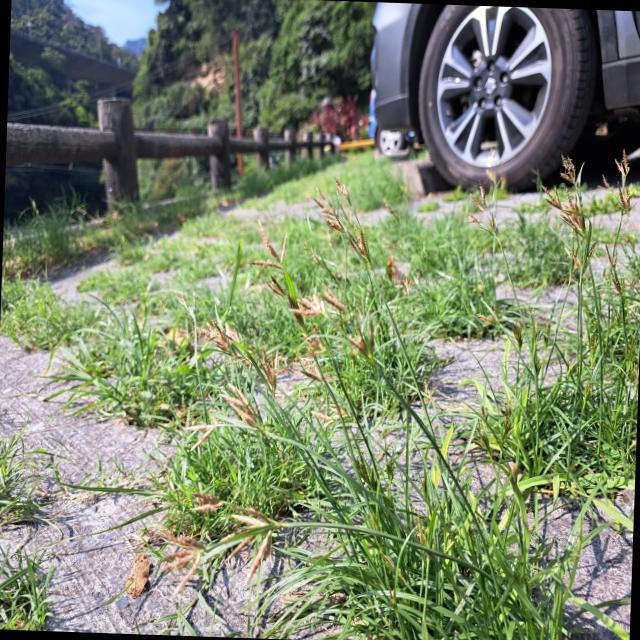cyperus: (146, 487, 289, 606), (286, 276, 388, 382), (246, 214, 314, 336), (538, 144, 597, 277), (308, 172, 382, 276), (476, 298, 560, 379), (196, 314, 286, 386), (472, 388, 520, 470), (217, 382, 286, 438), (466, 148, 504, 240), (602, 144, 640, 218)
